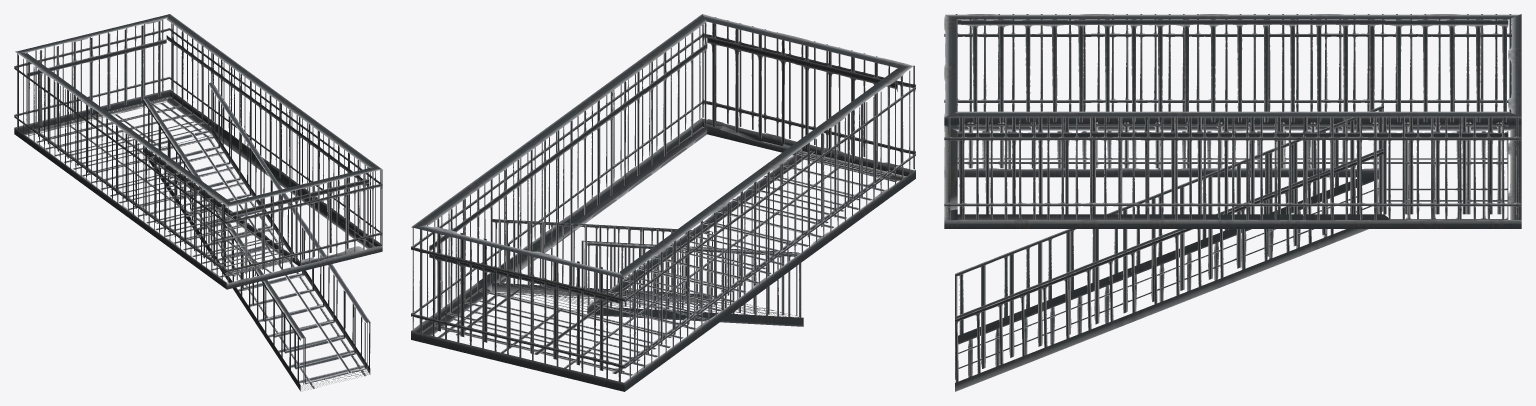
File: fireEscape.fbx
3 renders of one model, left to right at view 1: azimuth 30°, elevation 25°; view 2: azimuth 150°, elevation 25°; view 3: azimuth 270°, elevation 25°, orthographic. The views are drawn at different scales.
Parts seen in each view (by area): view 1: Cube; view 2: Cube; view 3: Cube.
Part boxes in pixels (x1,y1,x2,y2): Cube: [14, 14, 382, 391]; Cube: [411, 14, 915, 391]; Cube: [944, 14, 1521, 391].
Bounding box in the file's own units: 107 × 135 × 252.
